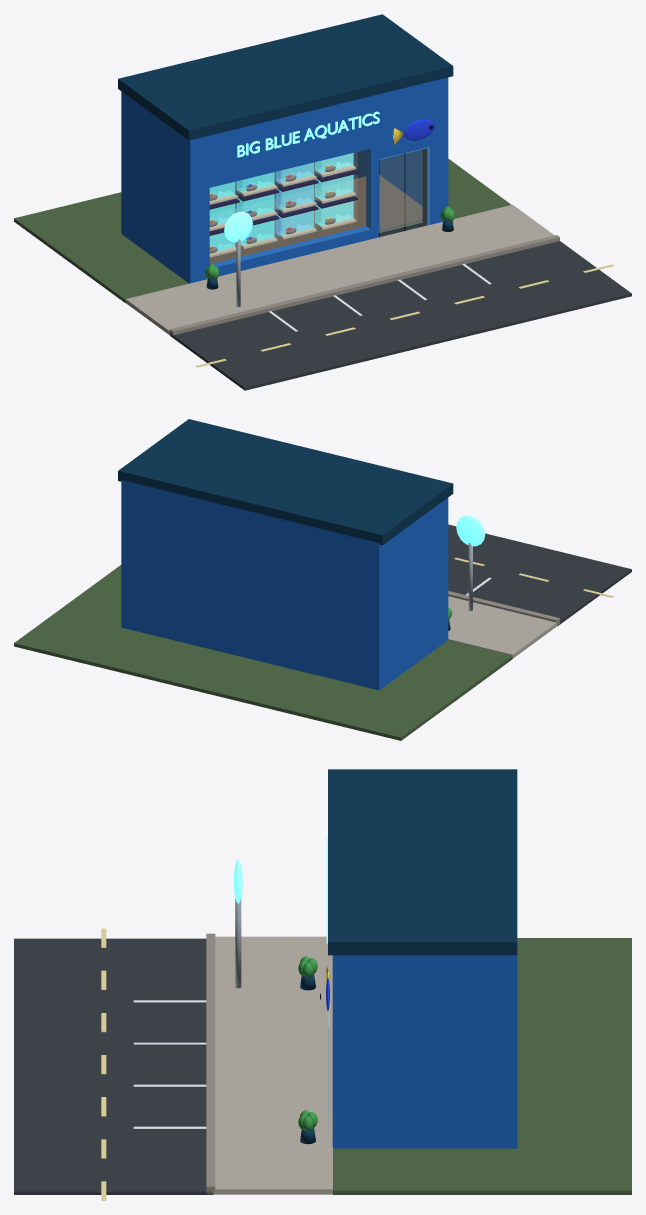
Rendered from store_big_blue.glb.
The picture shows the model from 3 angles, top to bottom: view 1: azimuth 30°, elevation 25°; view 2: azimuth 150°, elevation 25°; view 3: azimuth 270°, elevation 25°; orthographic projection. The views are drawn at different scales.
Parts seen in each view (by area): view 1: Cube.001, Cube.015, Cube.011, Cube, Cube.010, Cube.013, Cube.017, Cube.009, Cube.068, Cube.067, Cube.014, Text (+15 smaller); view 2: Cube.012, Cube.010, Cube.015, Cube.001, Cube.013, Cube, Cube.011, Sphere.051, Cube.009; view 3: Cube.001, Cube.010, Cube.015, Cube.014, Cube, Cube.011, Cube.009, Cube.012, Cylinder.
Boxes of the visible parts, x1,y1,x2,y2 form: Cube.001: (170,241,631,390); Cube.015: (118,14,453,140); Cube.011: (187,77,448,283); Cube: (125,204,553,335); Cube.010: (14,159,511,302); Cube.013: (123,93,190,283); Cube.017: (209,174,422,264); Cube.009: (169,235,559,335); Cube.068: (405,147,429,230); Cube.067: (379,153,403,237); Cube.014: (379,149,422,205); Text: (237,111,379,157); Cube.012: (121,480,382,690); Cube.010: (14,565,512,740); Cube.015: (118,419,453,545); Cube.001: (448,524,631,626); Cube.013: (381,501,443,688); Cube: (448,596,557,658); Cube.011: (443,497,448,642); Sphere.051: (456,515,485,546); Cube.009: (448,591,559,624); Cube.001: (14,938,213,1194); Cube.010: (333,938,631,1194); Cube.015: (328,769,517,955); Cube.014: (333,955,512,1148); Cube: (213,936,332,1194); Cube.011: (332,955,345,1148); Cube.009: (206,933,215,1194); Cube.012: (507,955,517,1148); Cylinder: (235,898,241,988).
Bounding box in the file's own units: 12.9 × 4.72 × 12.4.
